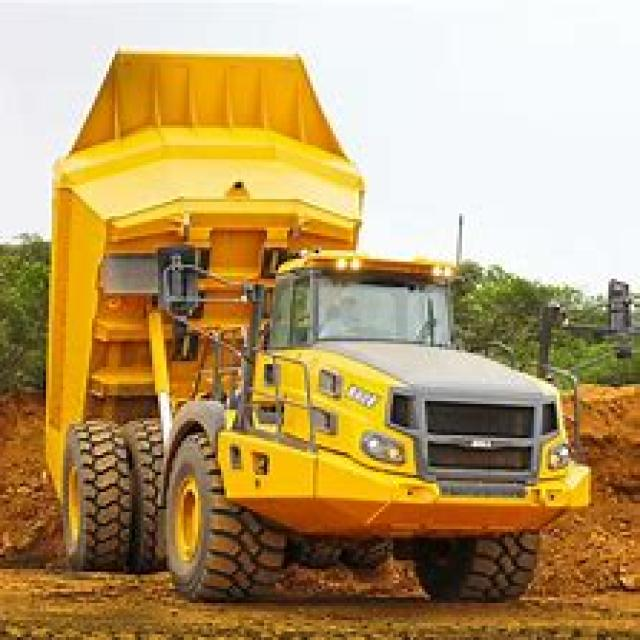dump_truck: (17, 28, 586, 606)
